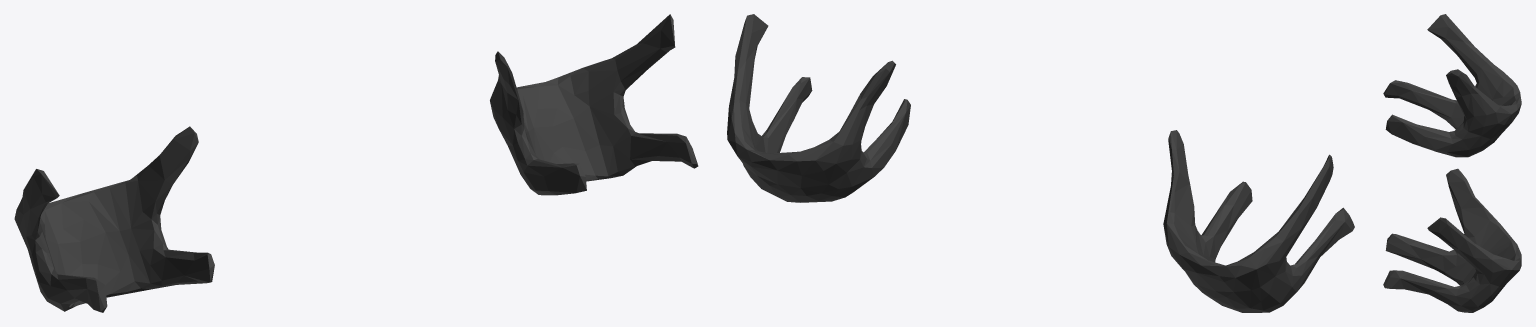
File: lig_proximal_digital_anular_FL.glb
3 views of the same model, side by side, from view 1: azimuth 30°, elevation 25°; view 2: azimuth 150°, elevation 25°; view 3: azimuth 270°, elevation 25° (orthographic). The views are drawn at different scales.
Parts seen in each view (by area): view 1: lig_proximal_digital_anular_FL; view 2: lig_proximal_digital_anular_FL; view 3: lig_proximal_digital_anular_FL.
Boxes of the visible parts, bbox=[...] form: lig_proximal_digital_anular_FL: bbox=[14, 14, 698, 312]; lig_proximal_digital_anular_FL: bbox=[727, 14, 1354, 312]; lig_proximal_digital_anular_FL: bbox=[1383, 14, 1521, 312].
Size of the model in its own units: 0.00424 by 0.00107 by 0.00121.
Materials: 1 (1 with a texture image).
